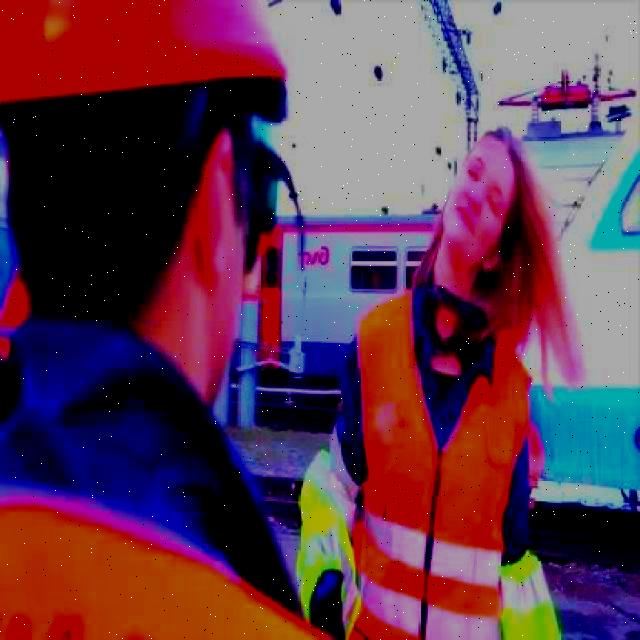Mask: (354, 298, 534, 638)
